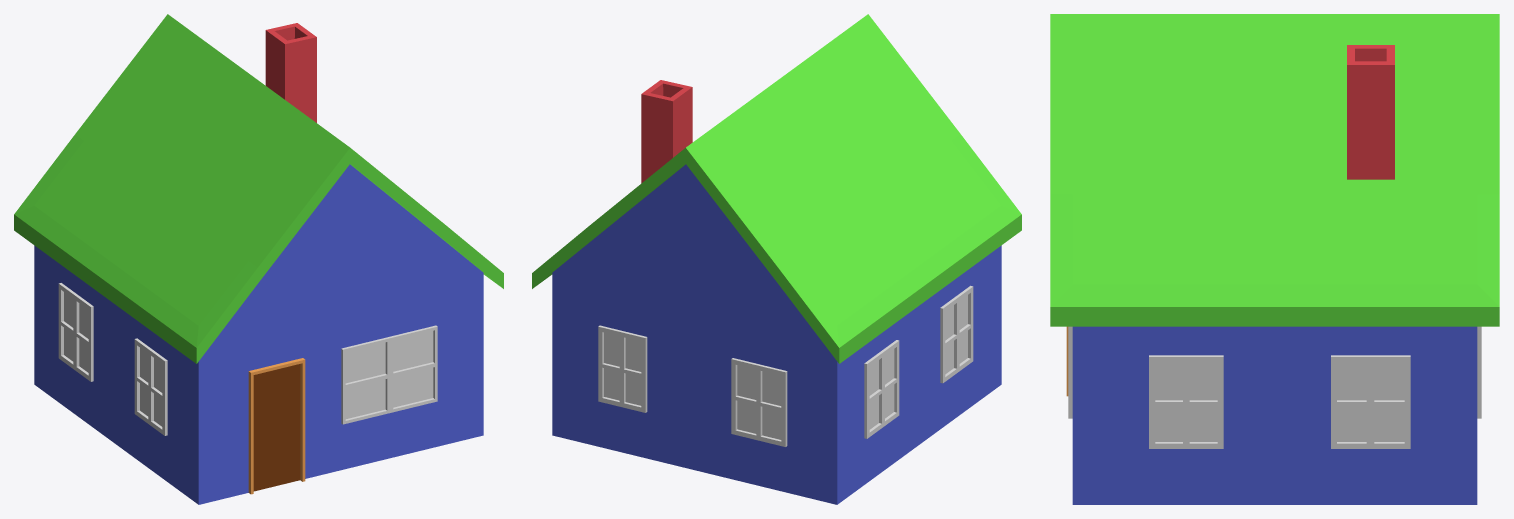
File: House2.fbx
The picture shows the model from 3 angles, left to right: view 1: azimuth 30°, elevation 25°; view 2: azimuth 150°, elevation 25°; view 3: azimuth 270°, elevation 25°; orthographic projection. The views are drawn at different scales.
Parts seen in each view (by area): view 1: Cube; view 2: Cube; view 3: Cube.
Part boxes in pixels (bbox=[...]): Cube: bbox=[14, 14, 503, 504]; Cube: bbox=[532, 14, 1021, 504]; Cube: bbox=[1050, 14, 1499, 504].
Size of the model in its own units: 216 by 222 by 222.
